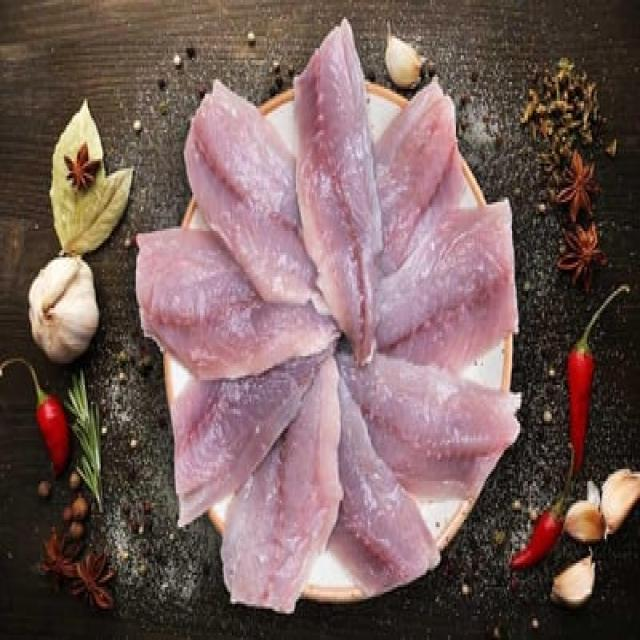Chilli Pepper: (568, 284, 628, 473), (1, 359, 70, 477), (510, 444, 574, 569), (29, 256, 99, 362)
Garlic: (564, 481, 605, 542), (550, 551, 595, 606), (602, 470, 640, 533), (388, 23, 420, 87)
Mackerel: (222, 357, 342, 612), (185, 81, 320, 304), (136, 231, 339, 379), (295, 19, 381, 364), (171, 352, 328, 525), (338, 353, 516, 498), (331, 378, 440, 593), (380, 201, 518, 369), (374, 81, 456, 273)
